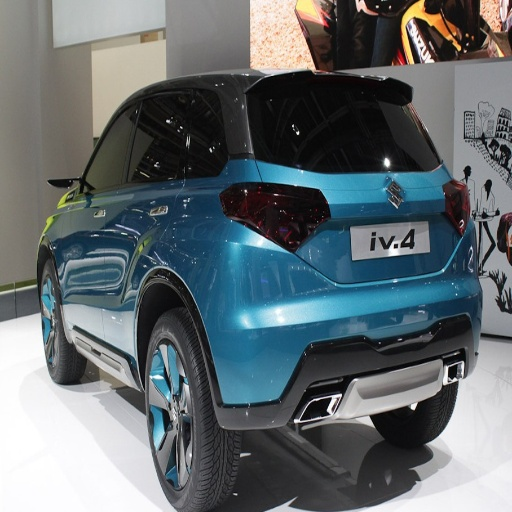back_bumper: (215, 282, 480, 433)
back_glass: (264, 80, 441, 171), (159, 89, 223, 165)
back_left_door: (85, 228, 135, 330)
tailgate: (338, 228, 452, 284), (380, 170, 449, 222)
trunk: (208, 176, 455, 350)
